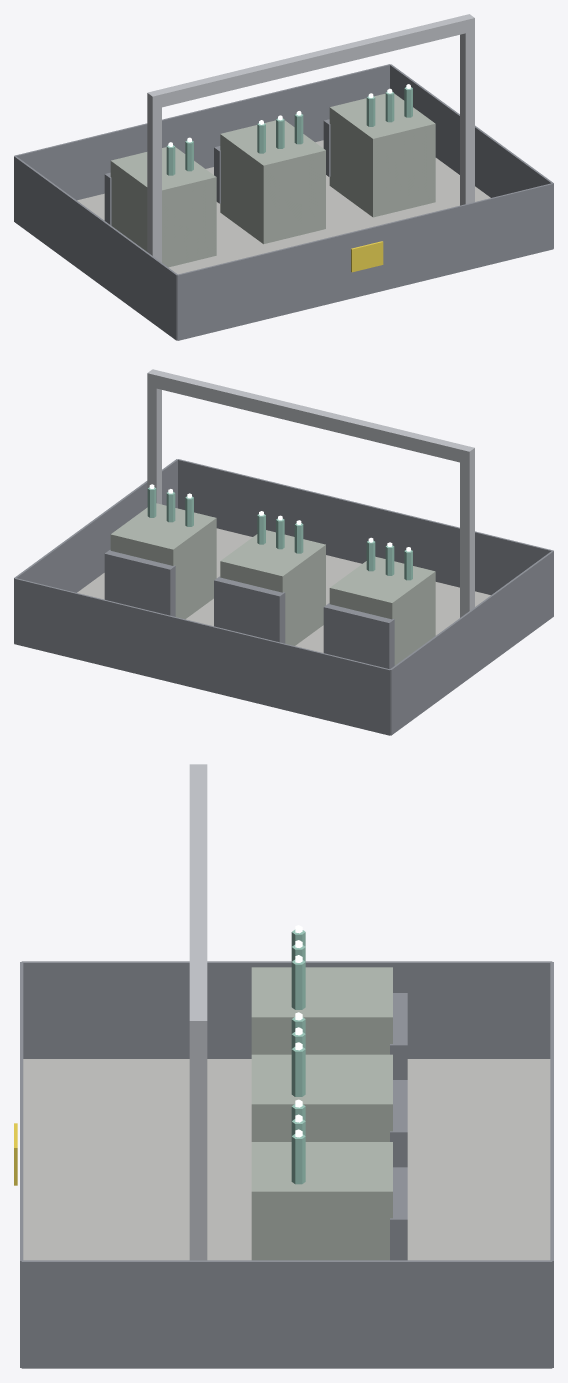
Rendered from substation.glb.
The picture shows the model from 3 angles, top to bottom: view 1: azimuth 30°, elevation 25°; view 2: azimuth 150°, elevation 25°; view 3: azimuth 270°, elevation 25°; orthographic projection. The views are drawn at different scales.
Parts seen in each view (by area): view 1: substation; view 2: substation; view 3: substation.
Boxes of the visible parts, x1,y1,x2,y2 form: substation: (14,14,553,340); substation: (14,369,553,735); substation: (14,764,553,1368).
Bounding box in the file's own units: 12.06 × 6.1 × 9.16.
